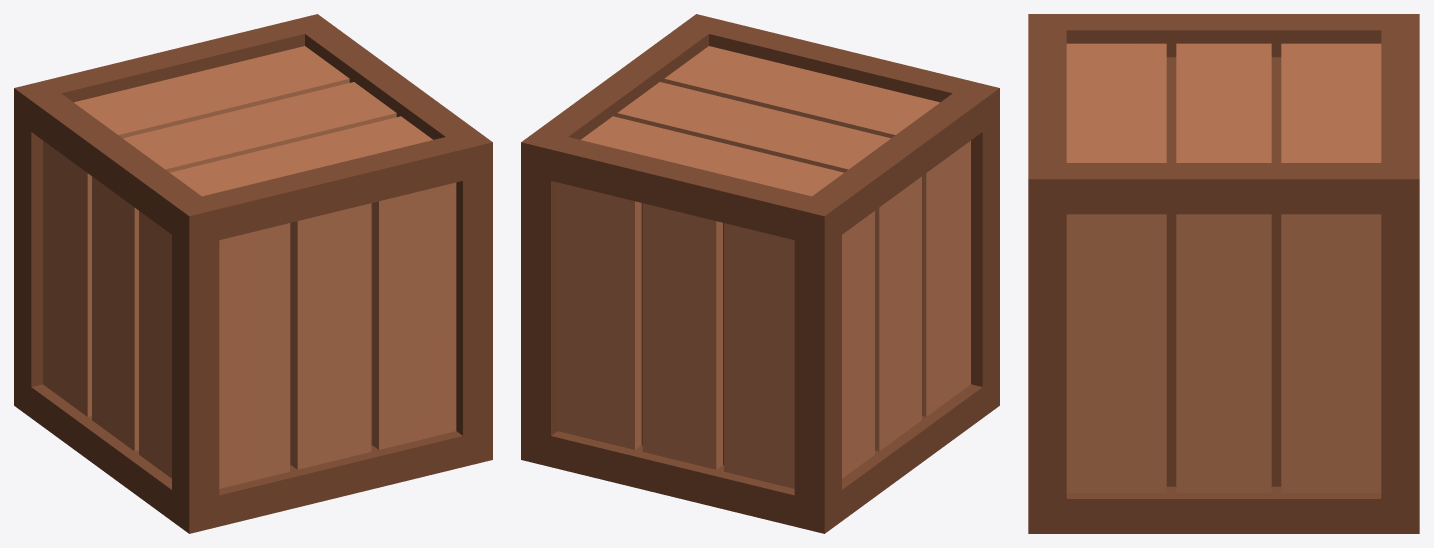
The model's file is Crate.fbx.
3 views of the same model, side by side, from view 1: azimuth 30°, elevation 25°; view 2: azimuth 150°, elevation 25°; view 3: azimuth 270°, elevation 25° (orthographic). The views are drawn at different scales.
Parts seen in each view (by area): view 1: Planks, Cube; view 2: Planks, Cube; view 3: Planks, Cube.
Part boxes in pixels (box(x1,y1,x2,y2)): Planks: box(43, 46, 456, 488); Cube: box(14, 14, 492, 533); Planks: box(557, 46, 970, 488); Cube: box(521, 14, 999, 533); Planks: box(1066, 43, 1381, 492); Cube: box(1028, 14, 1419, 533).
Size of the model in its own units: 200 by 200 by 200.
